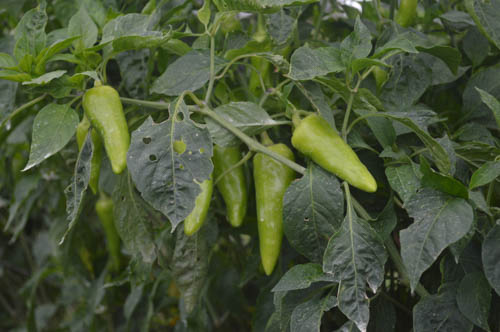ChiliPepper: (286, 114, 385, 192), (248, 143, 289, 277), (83, 87, 138, 174), (173, 144, 212, 243), (212, 134, 246, 227), (91, 200, 121, 272), (74, 126, 100, 193)
